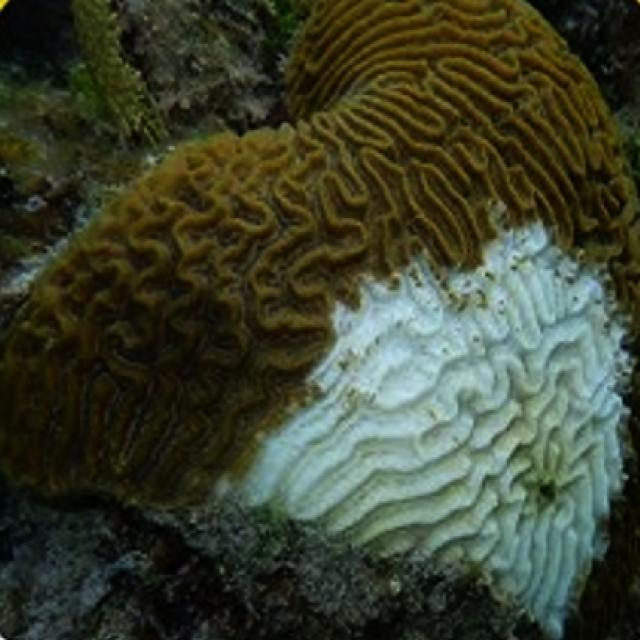Coral: (1, 0, 640, 640)
